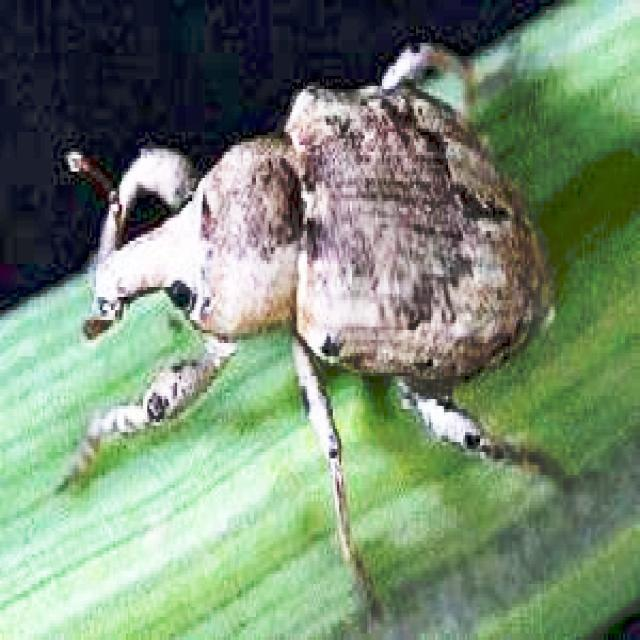rice-bug: (75, 40, 535, 486)
